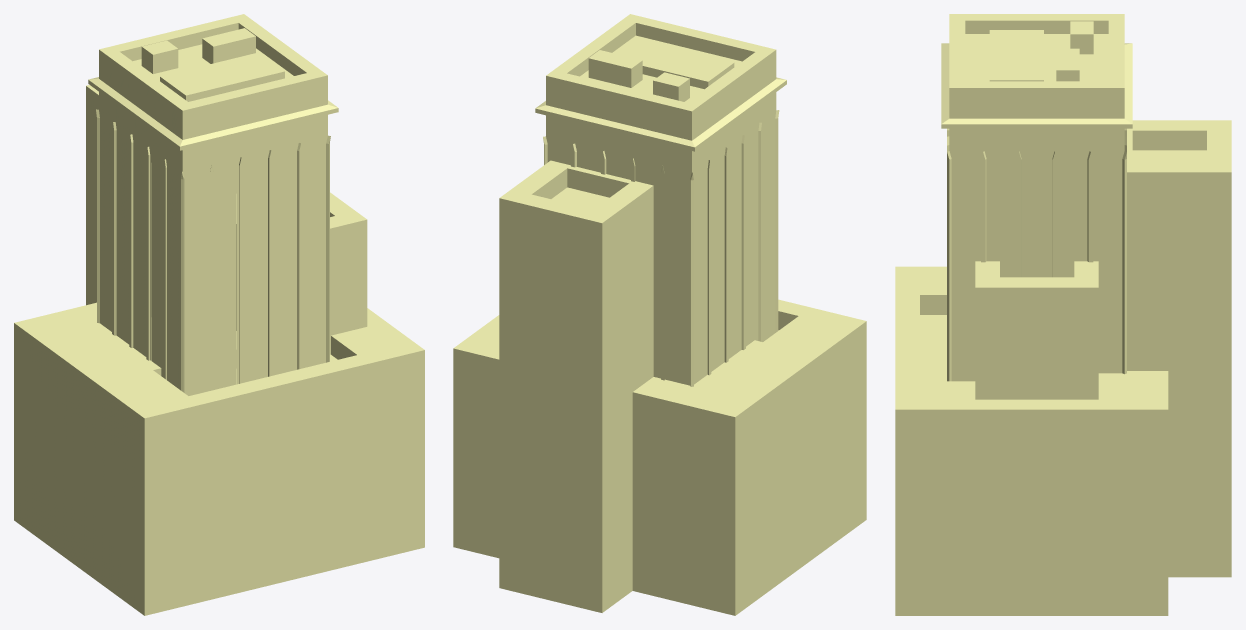
Rendered from MangaKa Props - F_S_ScifiBuilding_30.glb.
3 renders of one model, left to right at view 1: azimuth 30°, elevation 25°; view 2: azimuth 150°, elevation 25°; view 3: azimuth 270°, elevation 25°, orthographic. The views are drawn at different scales.
Visible parts, largest first — view 1: F_S_ScifiBuilding_30_blueScreen, F_S_ScifiBuilding_30003_blueScreen, F_S_ScifiBuilding_30004_blueScreen, F_S_ScifiBuilding_30002_blueScreen, F_S_ScifiBuilding_30001_blueScreen; view 2: F_S_ScifiBuilding_30_blueScreen, F_S_ScifiBuilding_30003_blueScreen, F_S_ScifiBuilding_30004_blueScreen, F_S_ScifiBuilding_30002_blueScreen, F_S_ScifiBuilding_30001_blueScreen; view 3: F_S_ScifiBuilding_30_blueScreen, F_S_ScifiBuilding_30003_blueScreen, F_S_ScifiBuilding_30002_blueScreen, F_S_ScifiBuilding_30004_blueScreen, F_S_ScifiBuilding_30001_blueScreen.
Part boxes in pixels (box(x1,y1,x2,y2)): F_S_ScifiBuilding_30_blueScreen: box(14, 14, 424, 615); F_S_ScifiBuilding_30003_blueScreen: box(101, 126, 323, 395); F_S_ScifiBuilding_30004_blueScreen: box(96, 109, 330, 392); F_S_ScifiBuilding_30002_blueScreen: box(88, 52, 338, 150); F_S_ScifiBuilding_30001_blueScreen: box(141, 28, 255, 73); F_S_ScifiBuilding_30_blueScreen: box(453, 14, 866, 615); F_S_ScifiBuilding_30003_blueScreen: box(550, 127, 773, 384); F_S_ScifiBuilding_30004_blueScreen: box(543, 110, 779, 386); F_S_ScifiBuilding_30002_blueScreen: box(535, 38, 786, 151); F_S_ScifiBuilding_30001_blueScreen: box(588, 50, 689, 101); F_S_ScifiBuilding_30_blueScreen: box(895, 14, 1231, 615); F_S_ScifiBuilding_30003_blueScreen: box(954, 166, 1119, 381); F_S_ScifiBuilding_30002_blueScreen: box(941, 30, 1132, 128); F_S_ScifiBuilding_30004_blueScreen: box(947, 128, 1126, 381); F_S_ScifiBuilding_30001_blueScreen: box(1056, 21, 1093, 81).
Bounding box in the file's own units: 5.48 × 8.92 × 5.45.
